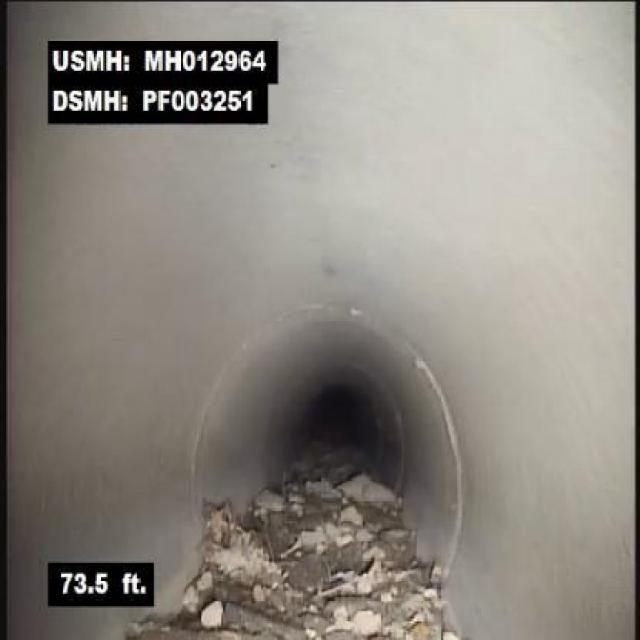Obstacle: (157, 454, 337, 638), (337, 460, 441, 638)
